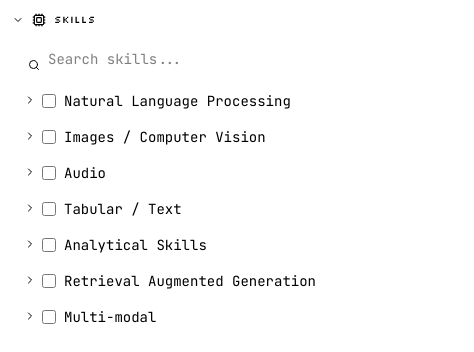
Test: TaxonomyFilter › tree nodes › collapses node when expand button clicked again
Click the button with test id "taxonomy-filter-expand-natural_language_processing" at {"x": 30, "y": 101}, box [24,89,36,113]
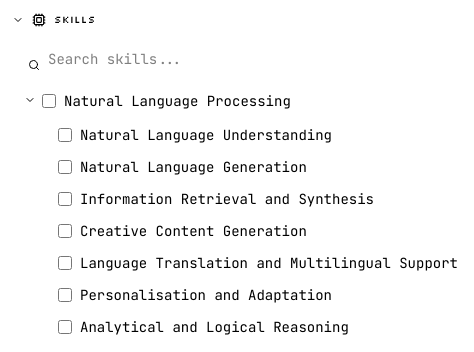
Click the button with test id "taxonomy-filter-expand-natural_language_processing" at {"x": 30, "y": 101}, box [24,89,36,113]
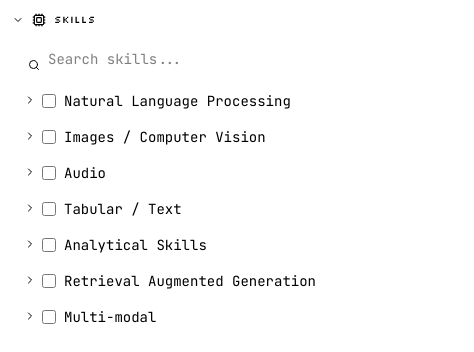
Now the element with test id "taxonomy-filter-node-natural_language_processing/natural_language_understanding" is gone
